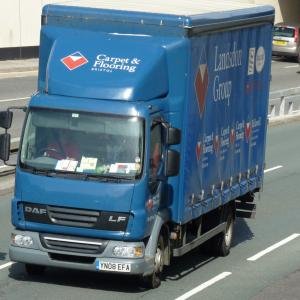Vehicle-registration-plate: (97, 262, 131, 274)
